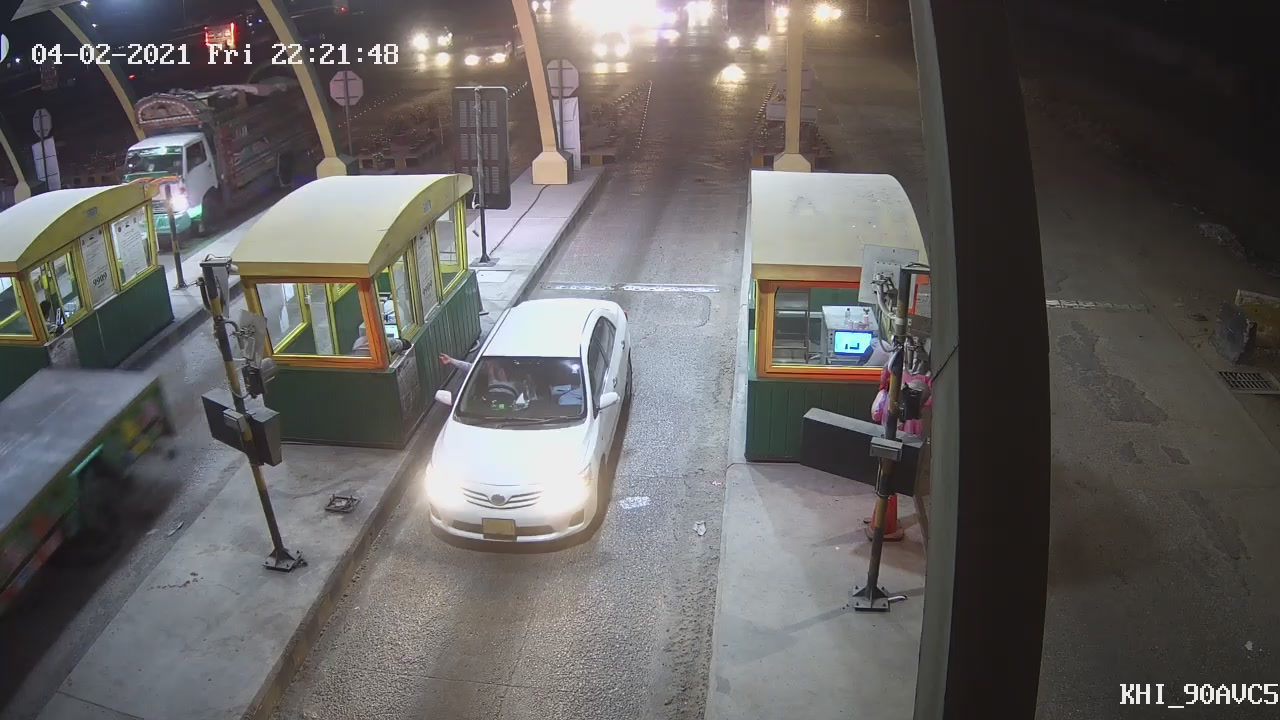F1: (417, 292, 637, 550)
